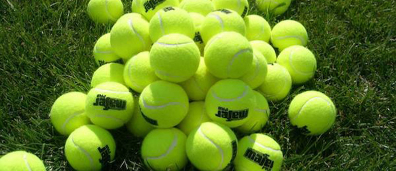ball: (136, 74, 192, 133), (58, 122, 120, 171), (147, 31, 203, 85), (202, 27, 255, 82), (285, 87, 340, 140), (184, 119, 240, 171), (84, 77, 134, 129), (108, 14, 154, 60), (276, 43, 318, 85)
